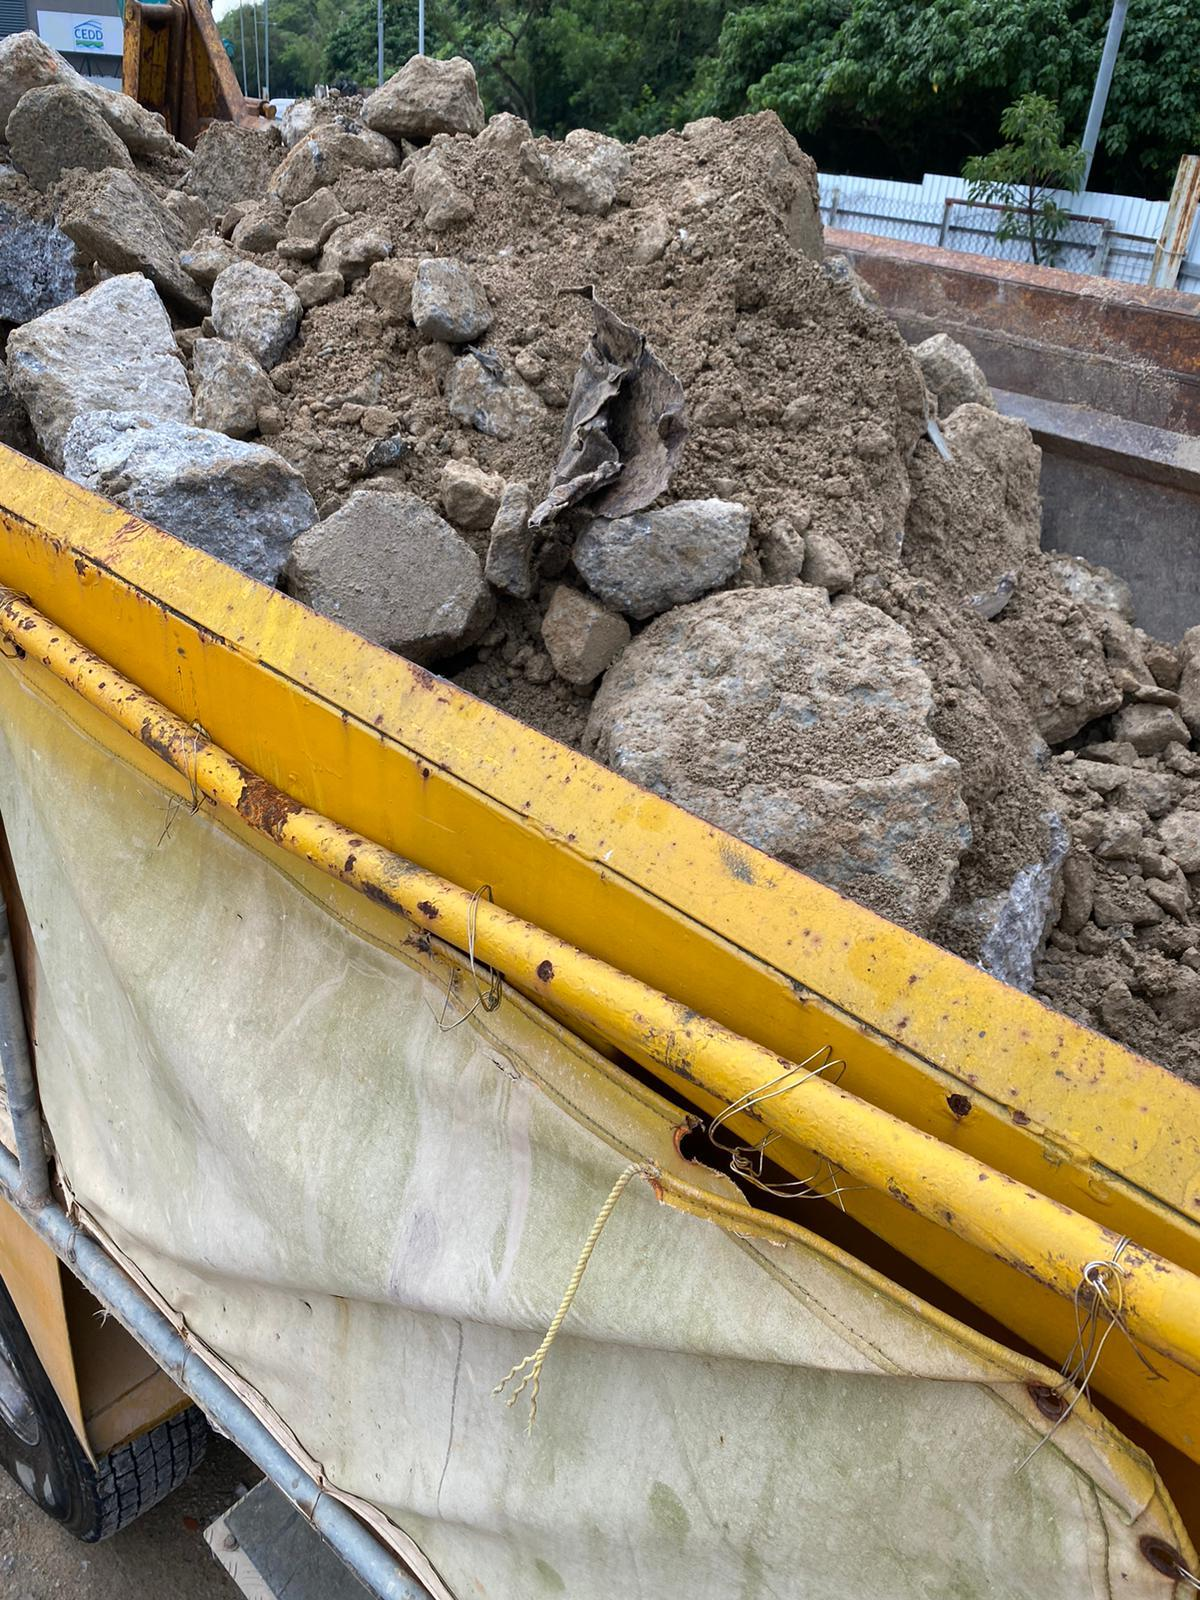dry: (5, 28, 1200, 1070)
